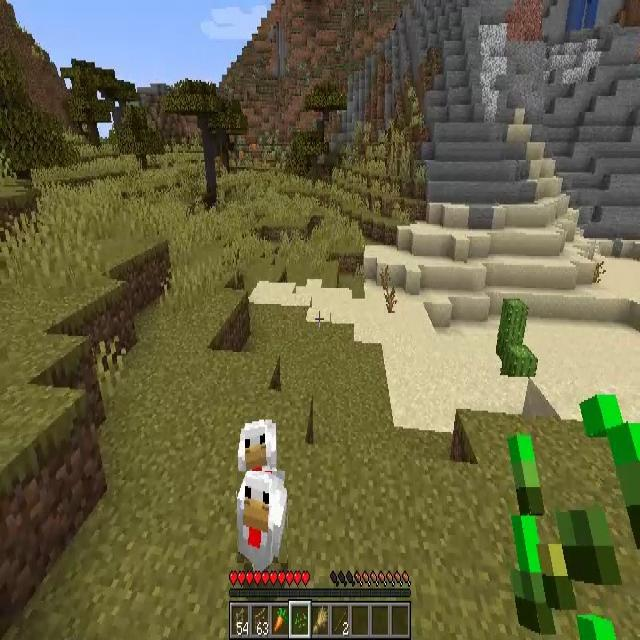duck: (237, 472, 287, 564), (240, 421, 276, 468)
